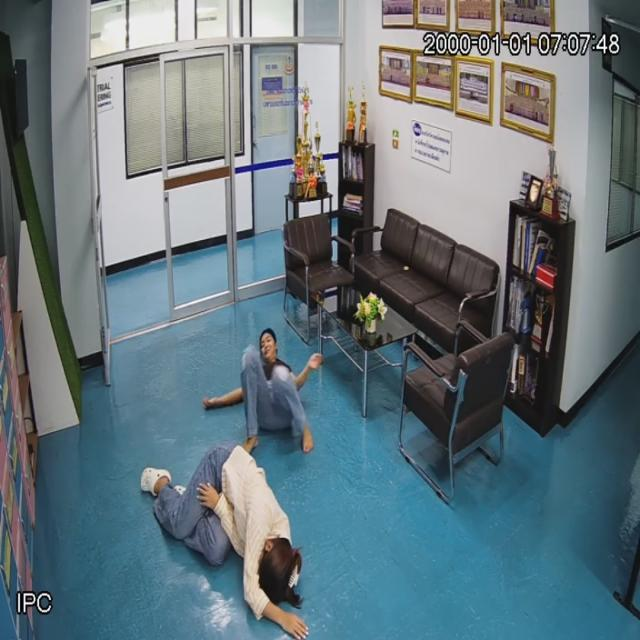fall: (140, 444, 305, 638), (242, 327, 314, 455)
